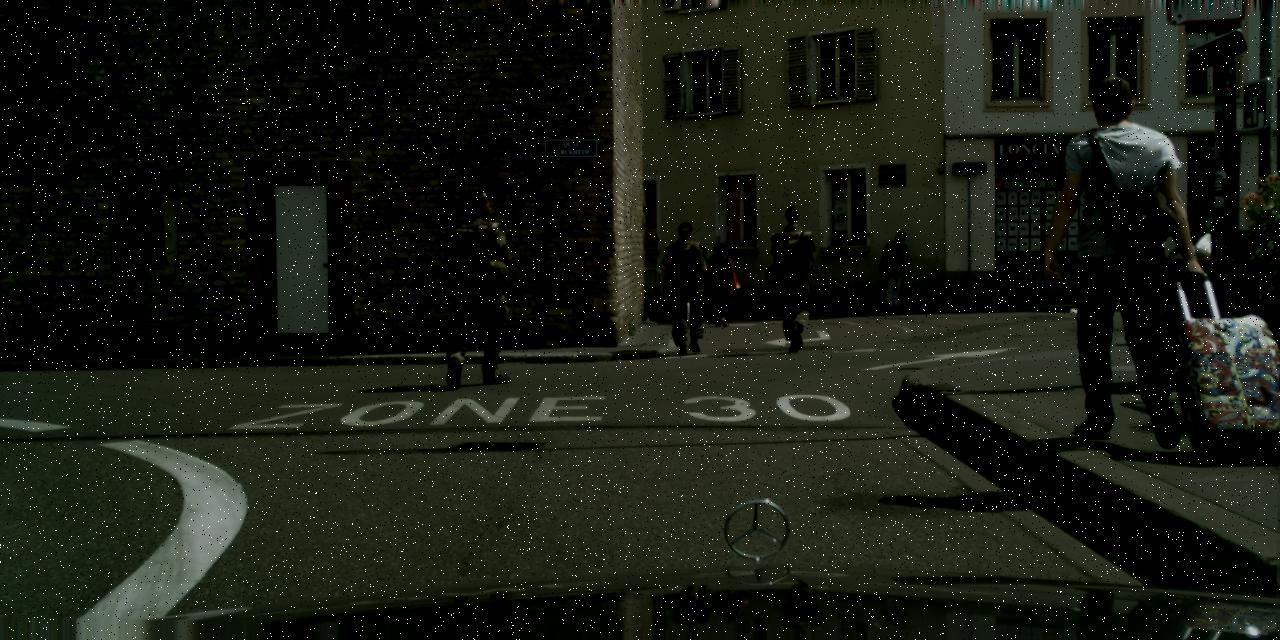ped: (1052, 75, 1202, 441), (436, 189, 515, 384), (763, 205, 819, 344), (660, 222, 714, 353), (703, 242, 737, 326), (686, 245, 718, 322), (882, 231, 912, 306)
